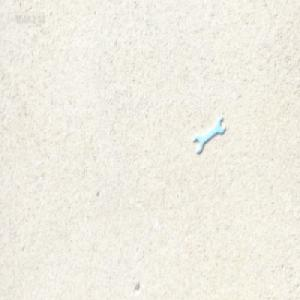Wrench: (193, 117, 224, 153)
